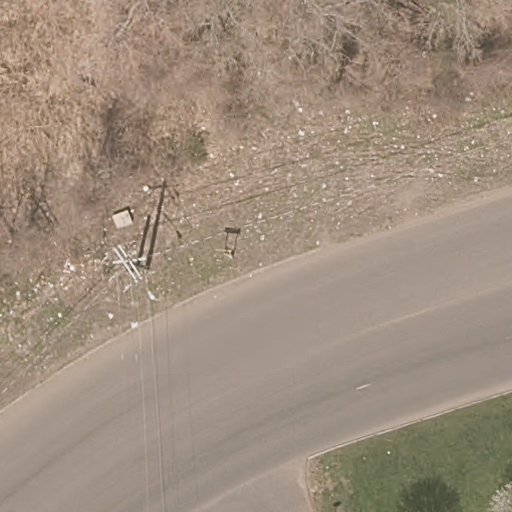DT: (112, 244, 145, 285)
